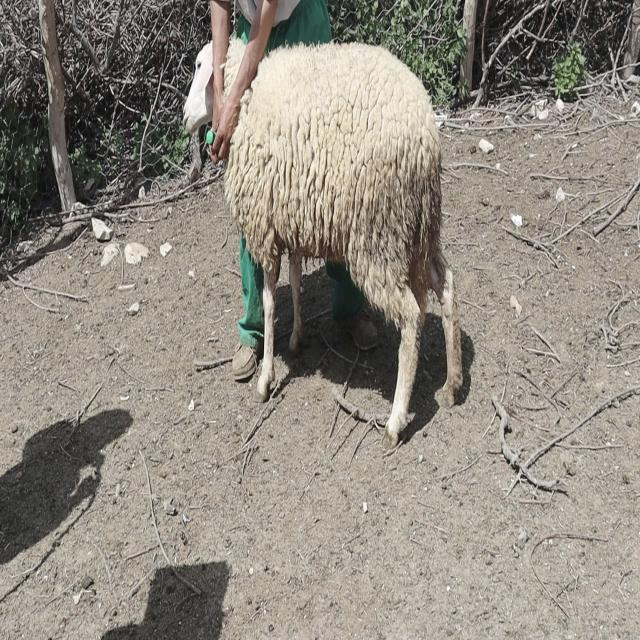Score_5: (225, 43, 462, 447)
